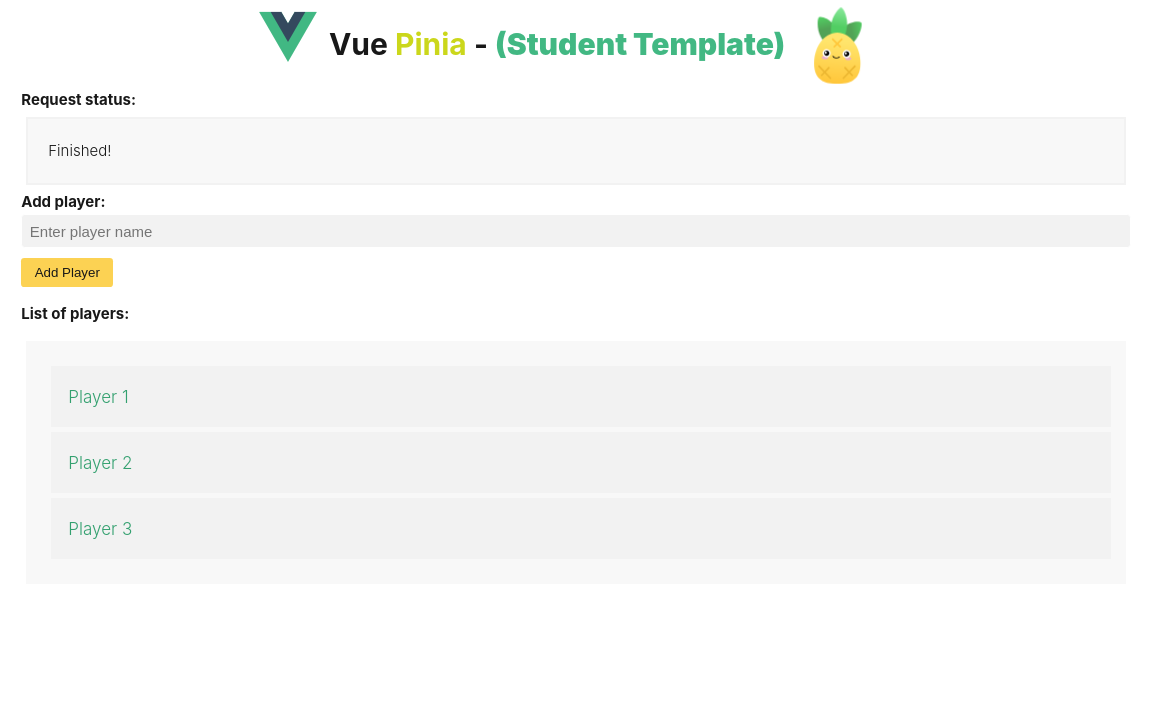
it: Requests: GET › should show player status when player link is clicked
This screenshot has width=1152, height=720.
Expected: the text "Finished!" is shown, [26,117,1126,185]
Click the link "Player 2" at (100,462), box [51,432,1110,493]
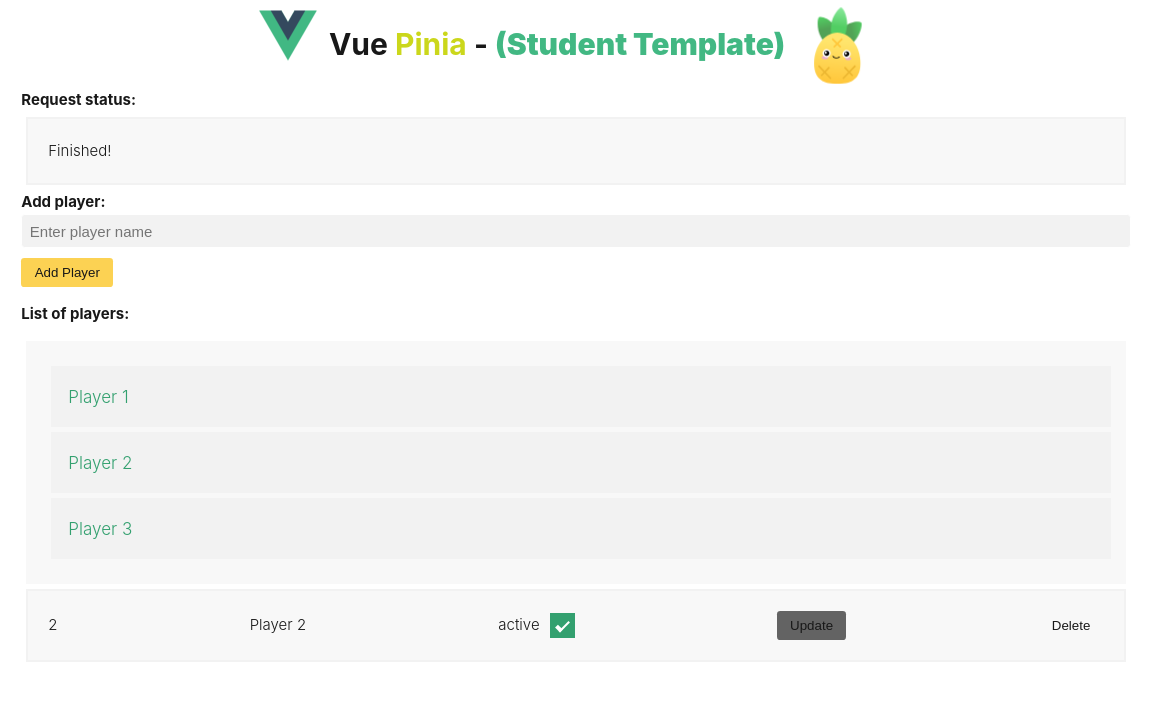
Expected: the text "Finished!" is shown, [26,117,1126,185]
Expected: the text "Player 2" is shown, [250,614,306,638]
Expected: the checkbox "active" is shown, [498,614,550,638]
